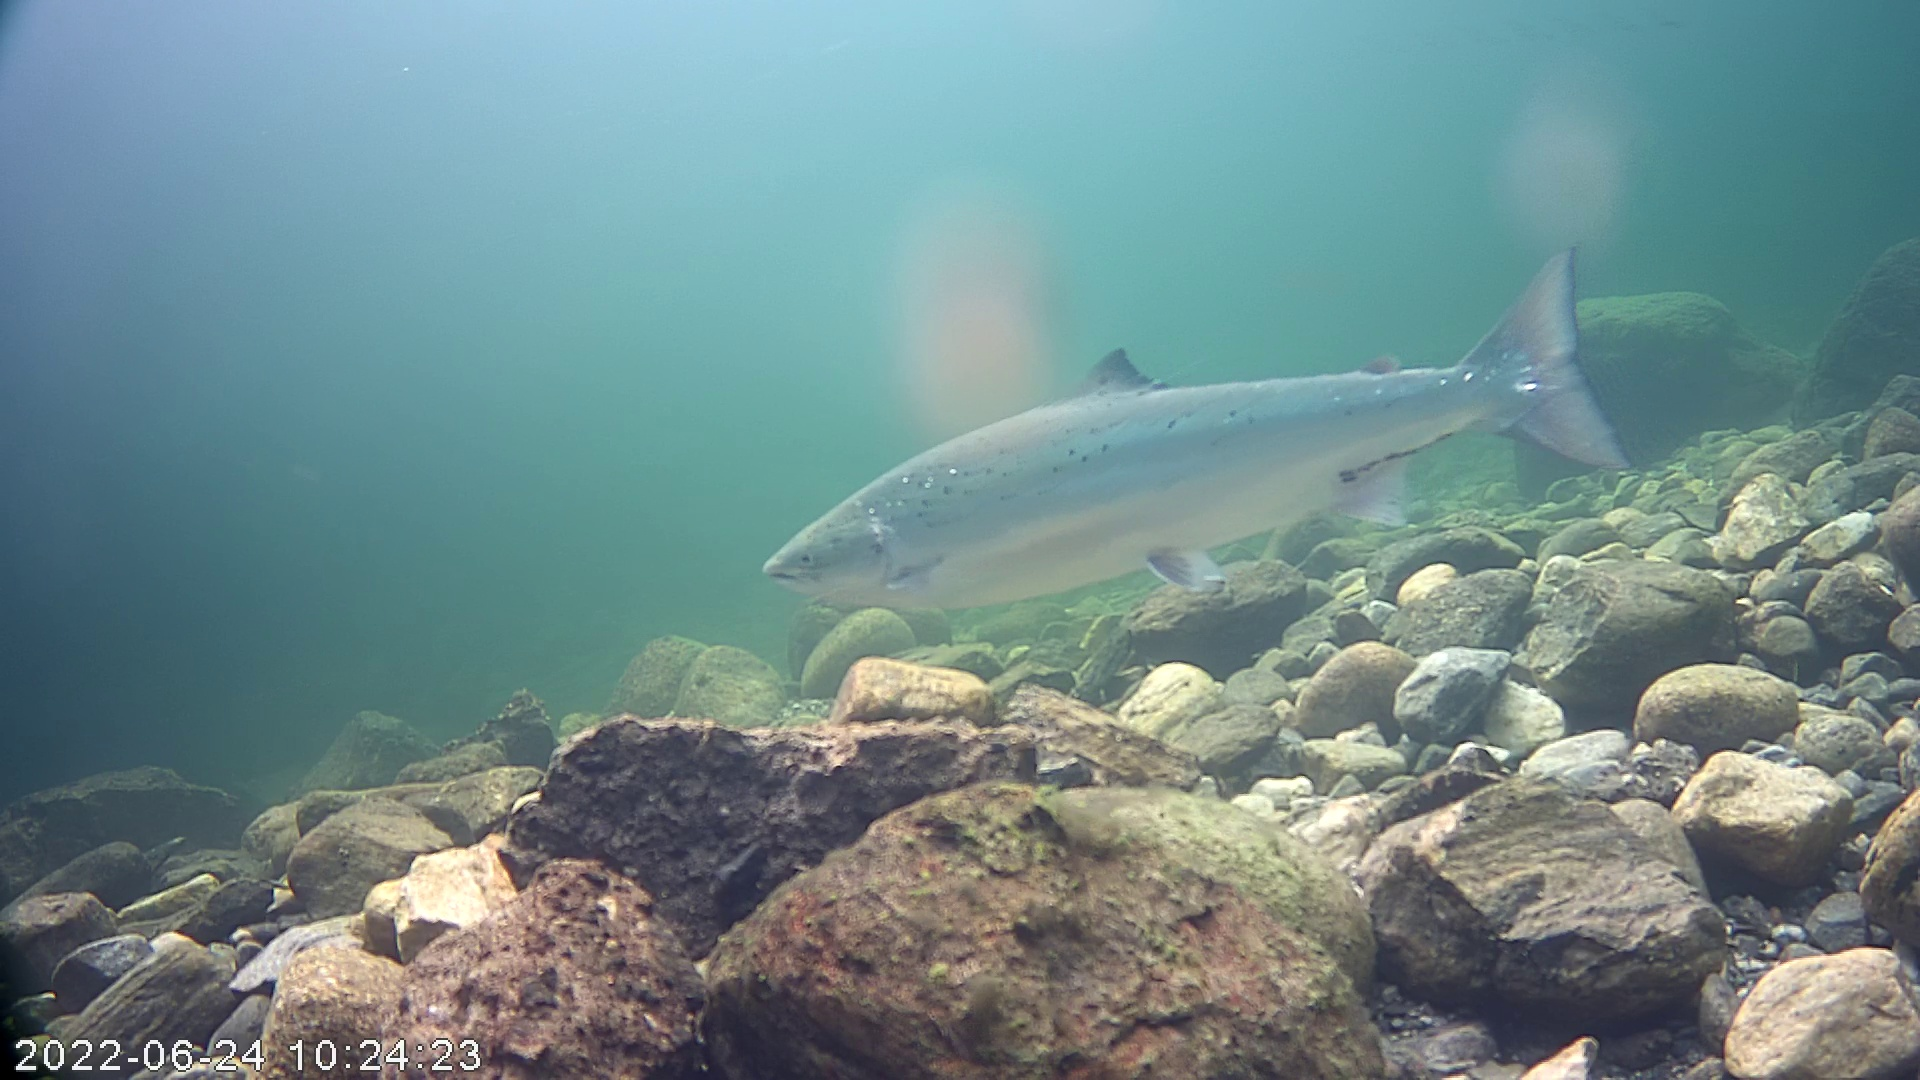salmon: (758, 243, 1625, 615)
